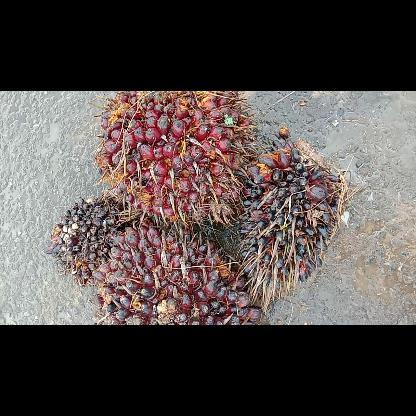Kurang masak: (93, 218, 261, 324)
TBS abnormal: (238, 139, 346, 289), (42, 196, 132, 284)
TBS masak: (98, 90, 252, 222)
